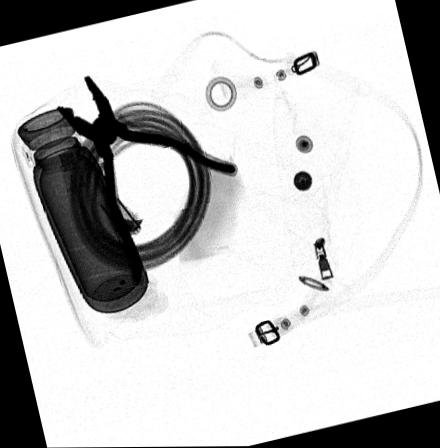Pliers: (54, 73, 238, 286)
